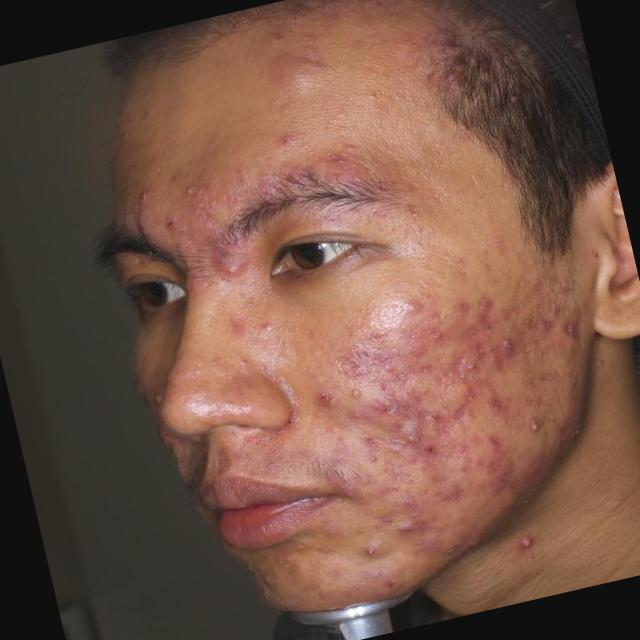acne: (390, 506, 442, 558), (123, 181, 170, 221), (494, 320, 536, 364), (518, 408, 562, 450), (270, 118, 314, 158), (154, 207, 202, 243), (510, 528, 552, 569), (212, 250, 255, 290), (446, 350, 490, 389), (325, 467, 367, 505), (325, 134, 369, 170), (435, 461, 469, 507), (469, 283, 505, 321), (361, 332, 402, 364), (356, 529, 392, 565), (367, 359, 405, 393), (460, 387, 498, 421), (372, 389, 408, 424), (493, 443, 531, 476), (311, 385, 346, 420), (394, 417, 427, 454), (454, 436, 484, 476), (388, 478, 422, 511), (544, 407, 576, 440), (342, 376, 371, 411), (393, 294, 428, 322), (414, 439, 447, 468), (518, 308, 554, 334), (177, 182, 211, 209), (358, 424, 388, 454), (410, 356, 442, 384), (301, 54, 335, 80), (222, 312, 251, 342), (484, 395, 520, 419), (272, 550, 302, 578), (445, 286, 472, 316), (322, 512, 349, 542), (561, 314, 586, 346), (484, 424, 513, 451), (400, 382, 430, 408), (376, 568, 404, 594), (341, 347, 370, 372), (424, 318, 454, 342), (254, 314, 284, 338), (264, 26, 294, 50), (290, 533, 320, 556), (256, 570, 280, 598), (460, 338, 488, 361), (160, 167, 190, 188), (458, 532, 488, 552), (231, 164, 255, 188), (423, 409, 448, 430), (362, 448, 385, 468), (243, 558, 266, 577)
